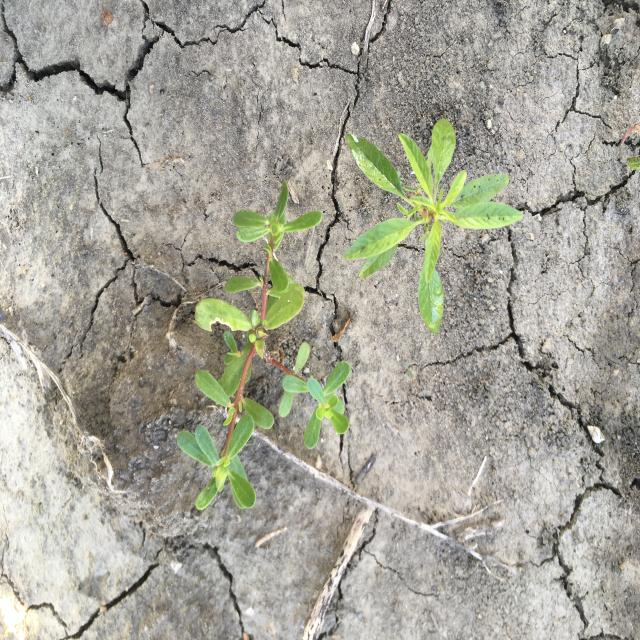Purslane: (176, 178, 352, 510)
Waterhemp: (342, 118, 524, 336)
